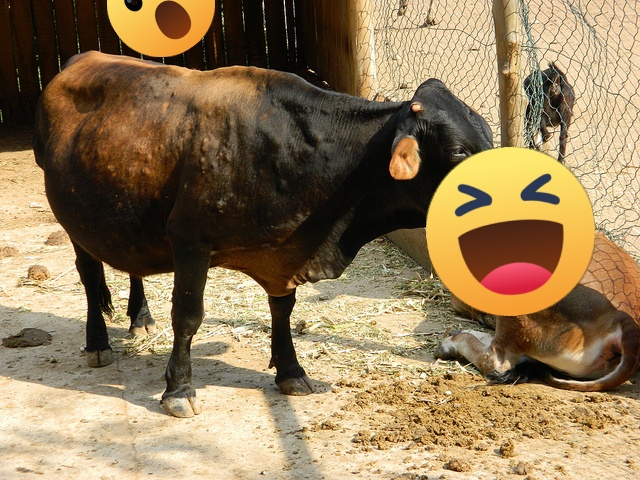haha: (426, 147, 595, 316)
wow: (107, 0, 215, 57)
